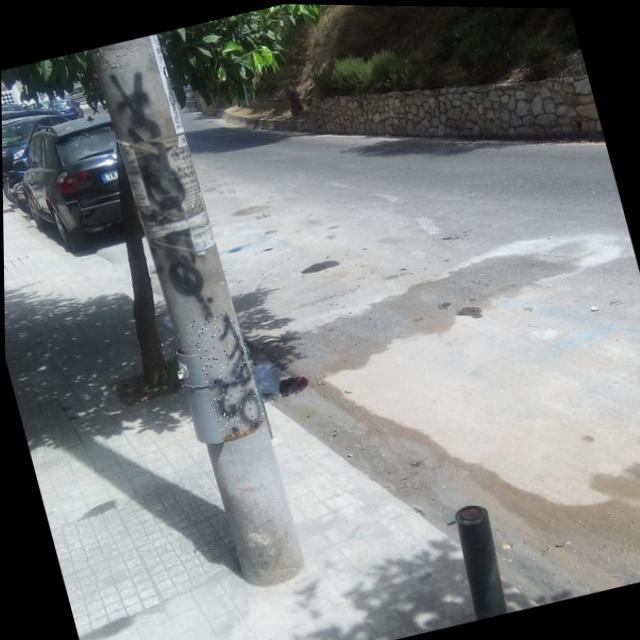-: (100, 61, 220, 330), (188, 308, 268, 440)
